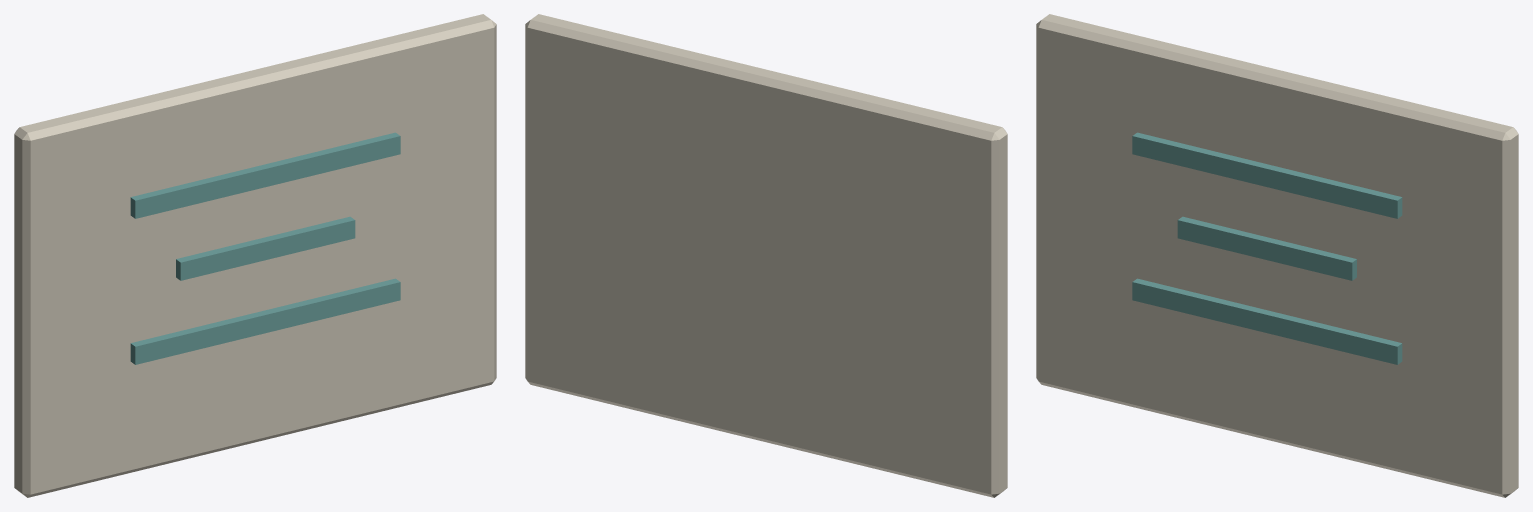
The model's file is ticket.glb.
3 renders of one model, left to right at view 1: azimuth 30°, elevation 25°; view 2: azimuth 150°, elevation 25°; view 3: azimuth 330°, elevation 25°, orthographic.
Visible parts, largest first — view 1: ticket; view 2: ticket; view 3: ticket.
Boxes of the visible parts, x1=… form: ticket: x1=14, y1=14, x2=496, y2=497; ticket: x1=525, y1=14, x2=1007, y2=497; ticket: x1=1036, y1=14, x2=1518, y2=497.
Bounding box in the file's own units: 0.306 × 0.225 × 0.0218.
